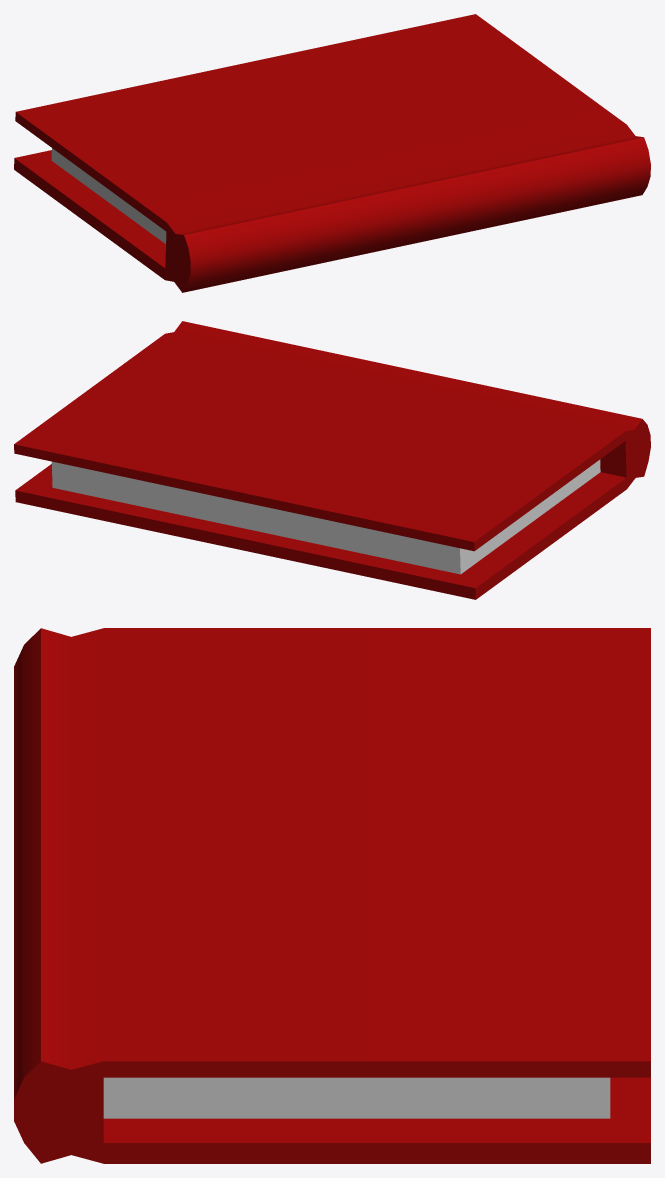
Rendered from Redbook.fbx.
3 renders of one model, top to bottom at view 1: azimuth 30°, elevation 25°; view 2: azimuth 150°, elevation 25°; view 3: azimuth 270°, elevation 25°, orthographic. The views are drawn at different scales.
Visible parts, largest first — view 1: pCube2; view 2: pCube2; view 3: pCube2.
Boxes of the visible parts, box(x1,y1,x2,y2) form: pCube2: box(14, 14, 650, 292); pCube2: box(14, 321, 650, 599); pCube2: box(14, 628, 650, 1163).
Bounding box in the file's own units: 7.4 × 1.1 × 4.88.
